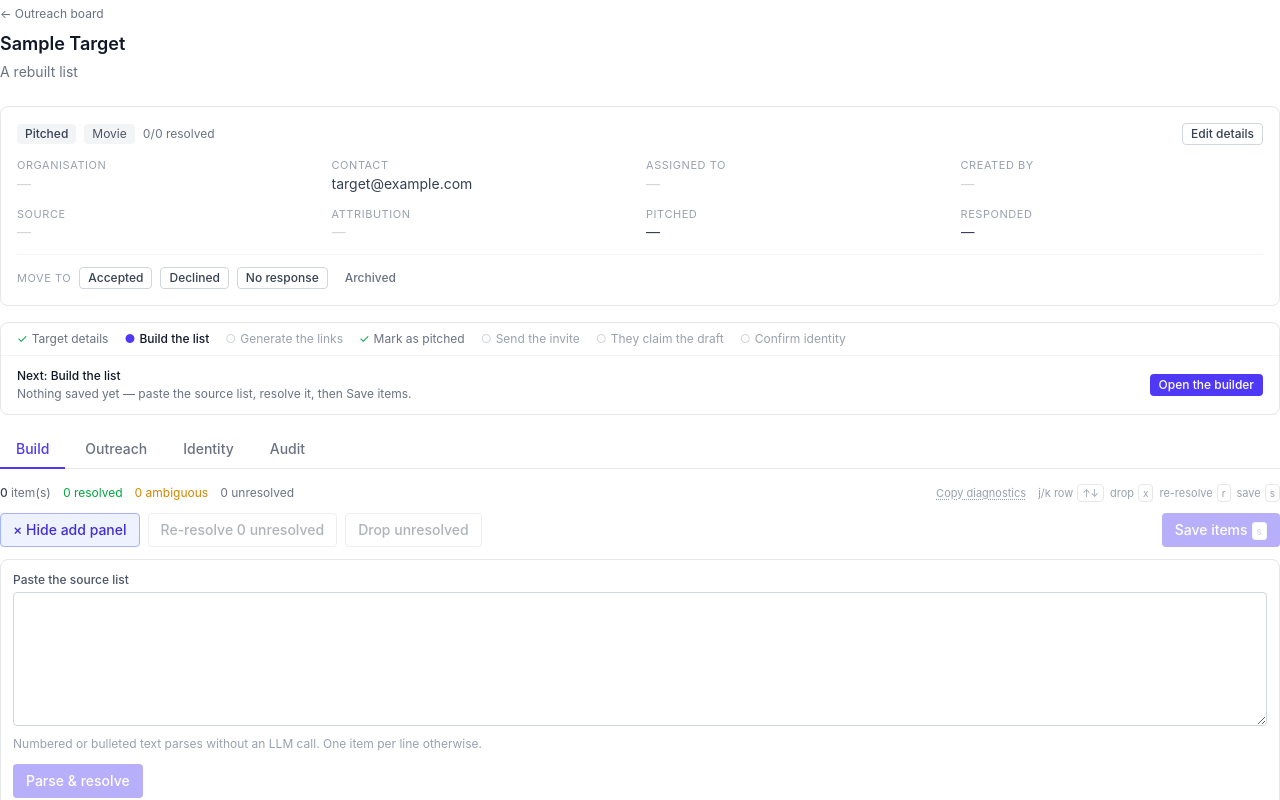
pitch detail — item editing and takedown › describes takedown as one action with all three effects (invariant 4)
This screenshot has width=1280, height=800.
Expected: the text "A rebuilt list" is shown, [0,63,78,80]
Click the button "Outreach" at (116, 450), box [69,431,163,469]
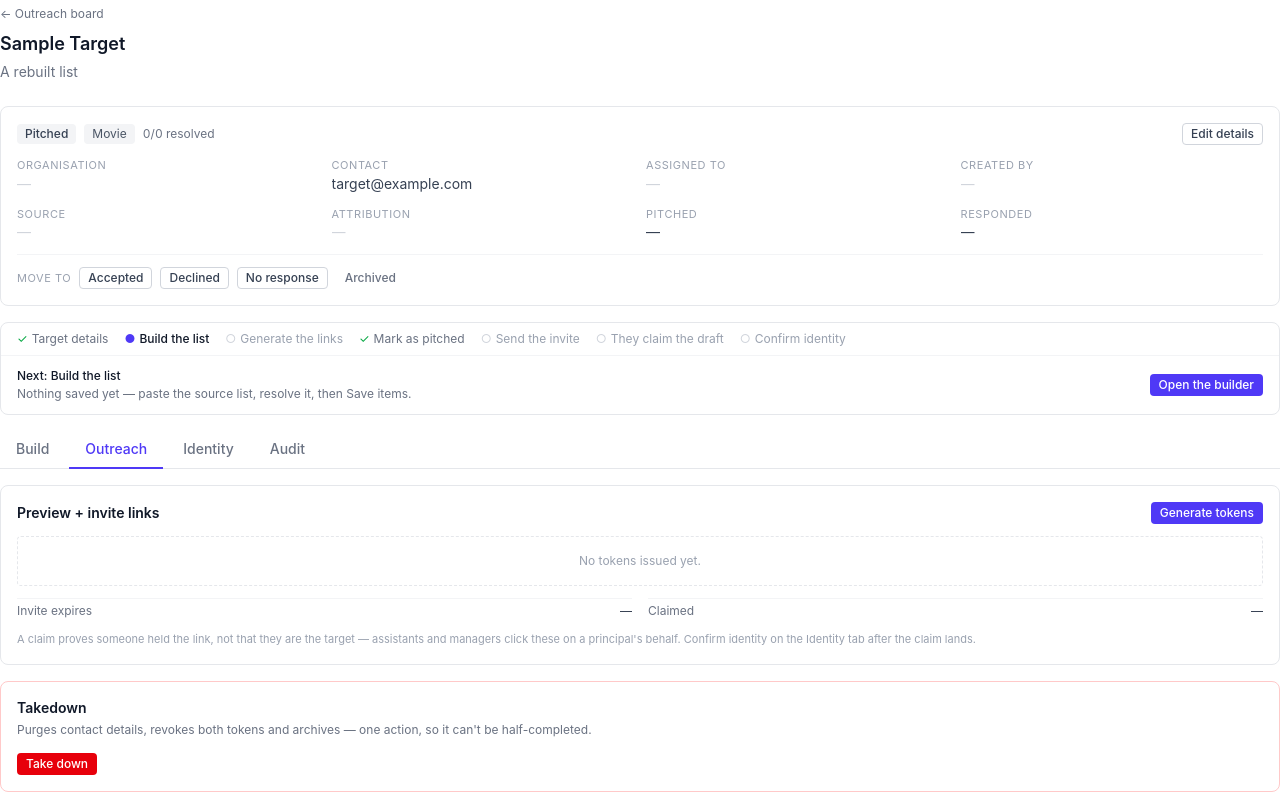
Click the button "Take down" at (57, 764), box [17,752,97,774]
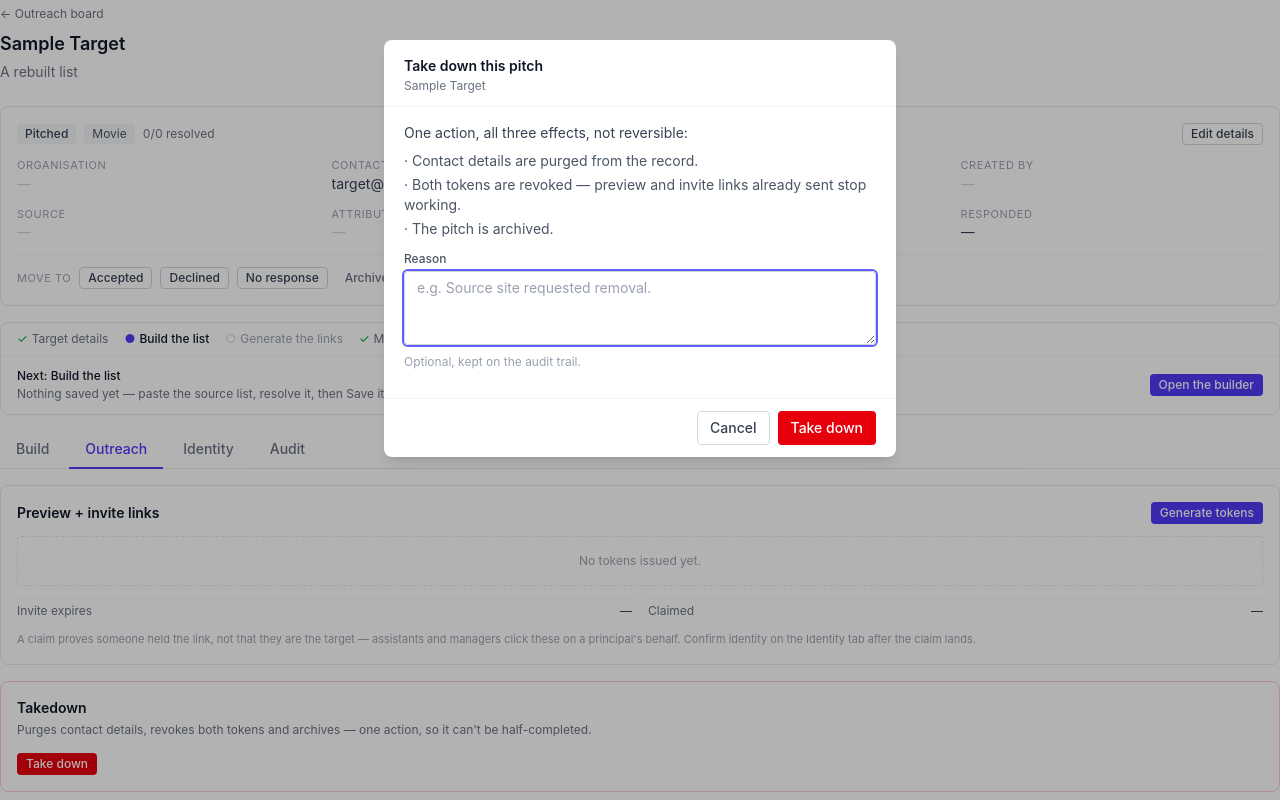
Result: the dialog shows "purged" at [404,152,698,169]
Result: the dialog shows "revoked" at [404,176,866,213]
Result: the dialog shows "archived" at [404,220,554,237]
